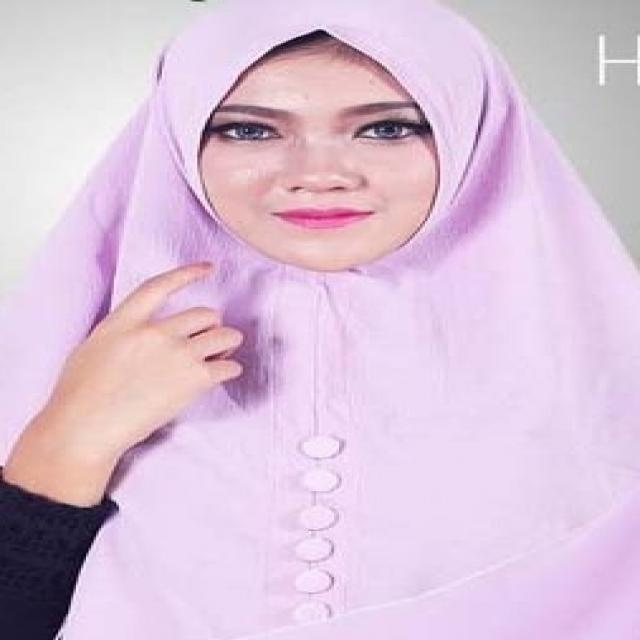head: (153, 3, 512, 277)
